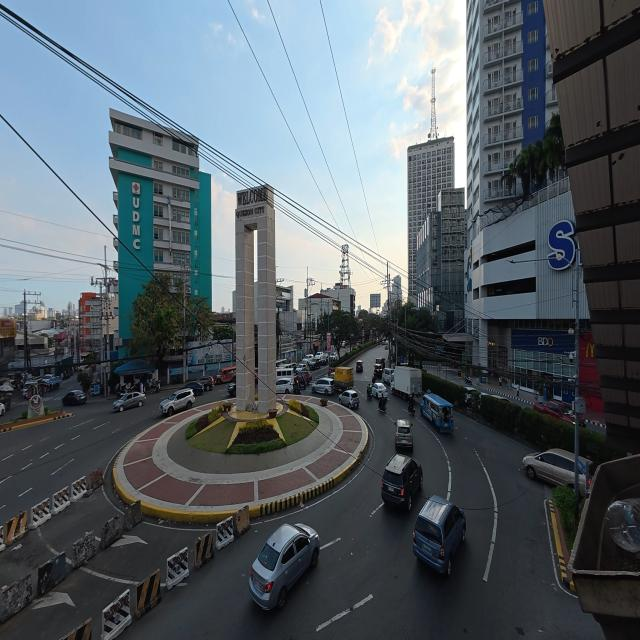Jeepneys: (421, 392, 453, 432), (215, 366, 236, 384)
car: (249, 524, 319, 609), (413, 495, 466, 576), (381, 454, 423, 510), (523, 449, 574, 488), (534, 400, 574, 423), (160, 389, 195, 415), (113, 391, 146, 412), (395, 420, 413, 450), (339, 389, 359, 408), (62, 390, 86, 405), (312, 378, 334, 394), (183, 382, 204, 396), (276, 378, 293, 394), (23, 381, 40, 397), (197, 376, 214, 391), (465, 387, 478, 406), (372, 383, 388, 398), (294, 372, 306, 389), (308, 356, 321, 370), (299, 370, 312, 384), (295, 362, 309, 373), (374, 364, 383, 378), (228, 383, 236, 397), (375, 358, 385, 369), (302, 354, 314, 363), (356, 360, 363, 372), (320, 354, 328, 364), (0, 403, 6, 416), (330, 353, 338, 361), (316, 352, 324, 360), (326, 372, 334, 380), (255, 368, 258, 384), (341, 341, 346, 347), (385, 343, 388, 350)
motorcycle: (146, 379, 160, 392), (0, 396, 11, 409), (378, 397, 386, 413), (408, 398, 415, 416), (293, 382, 300, 394), (465, 375, 472, 384), (367, 389, 372, 400), (372, 375, 375, 384)
trucks: (391, 366, 422, 399), (334, 367, 353, 392)
vans: (277, 365, 295, 378), (383, 368, 394, 386), (276, 359, 287, 369)
